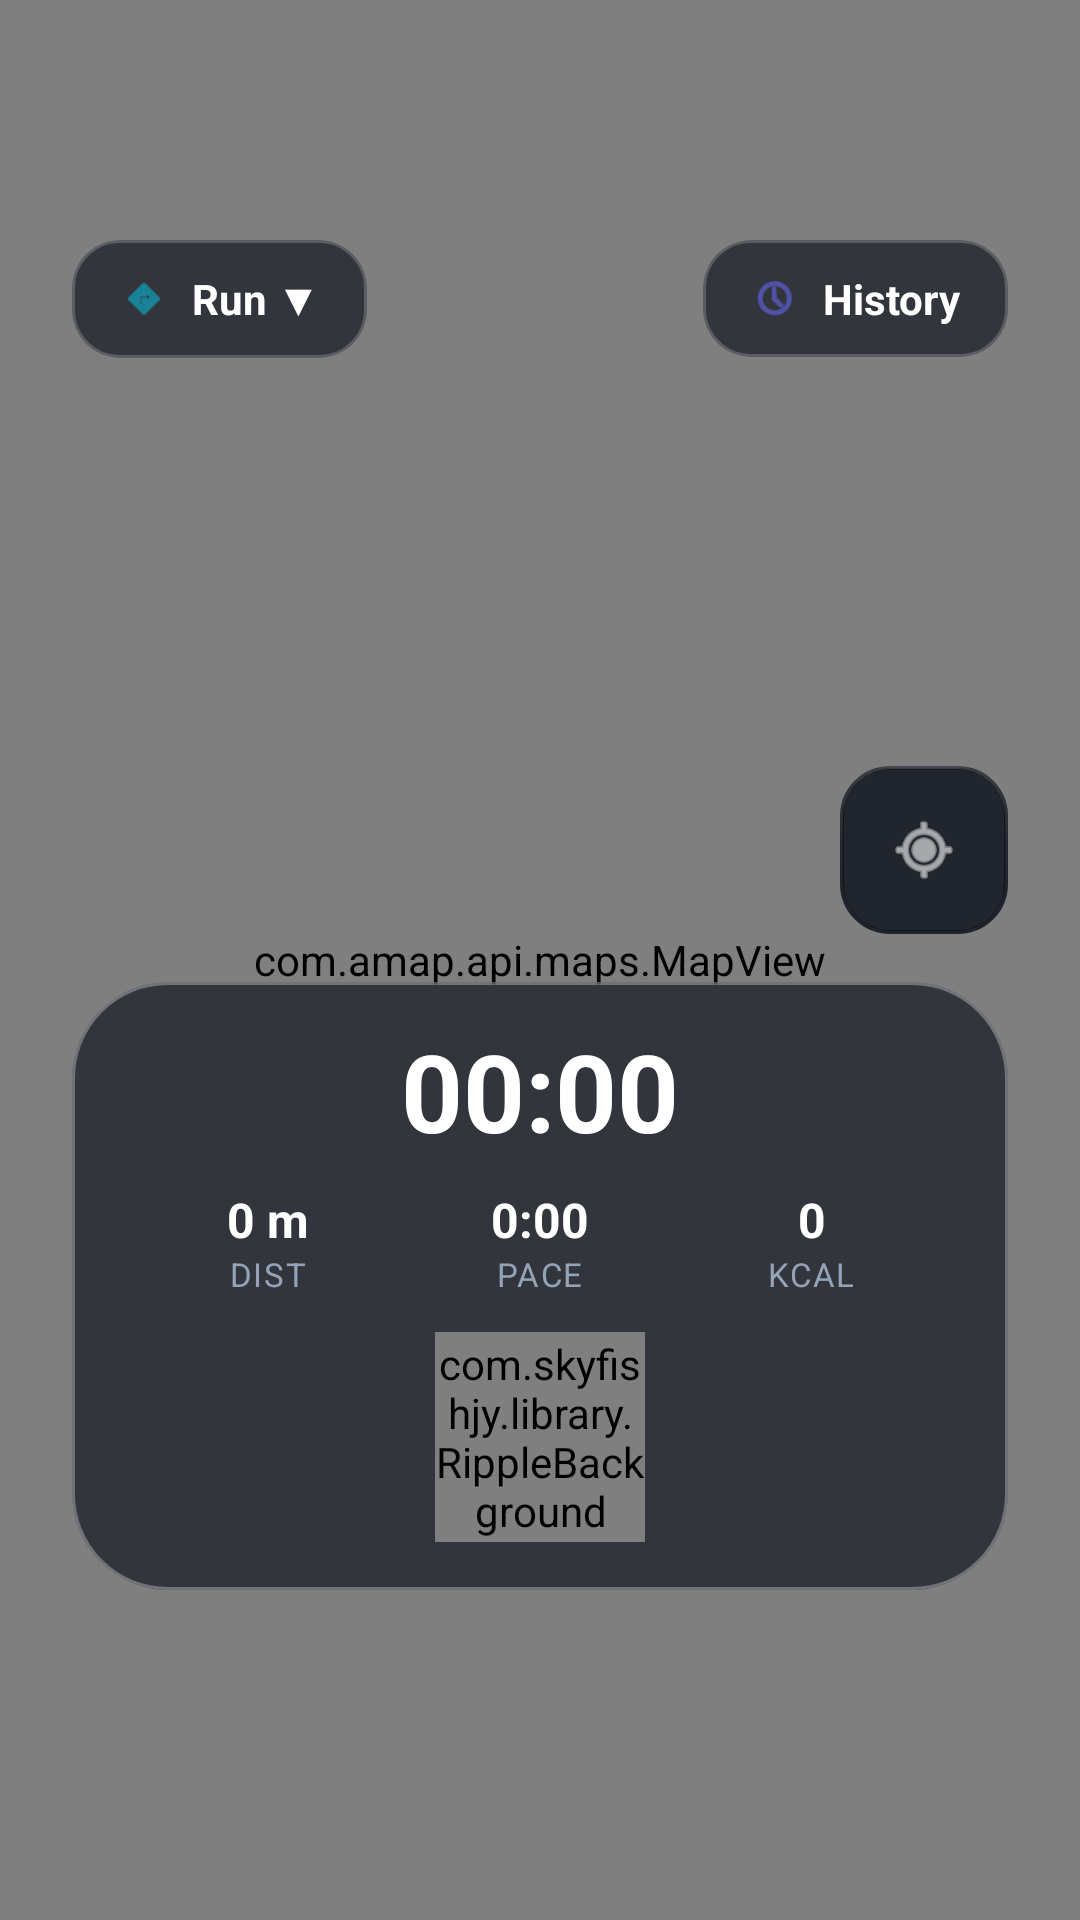

Where to tap for icons on this 1080*1920 app screen, as (x=x, y=y):
directions: (x=144, y=298)
My Location: (x=924, y=850)
